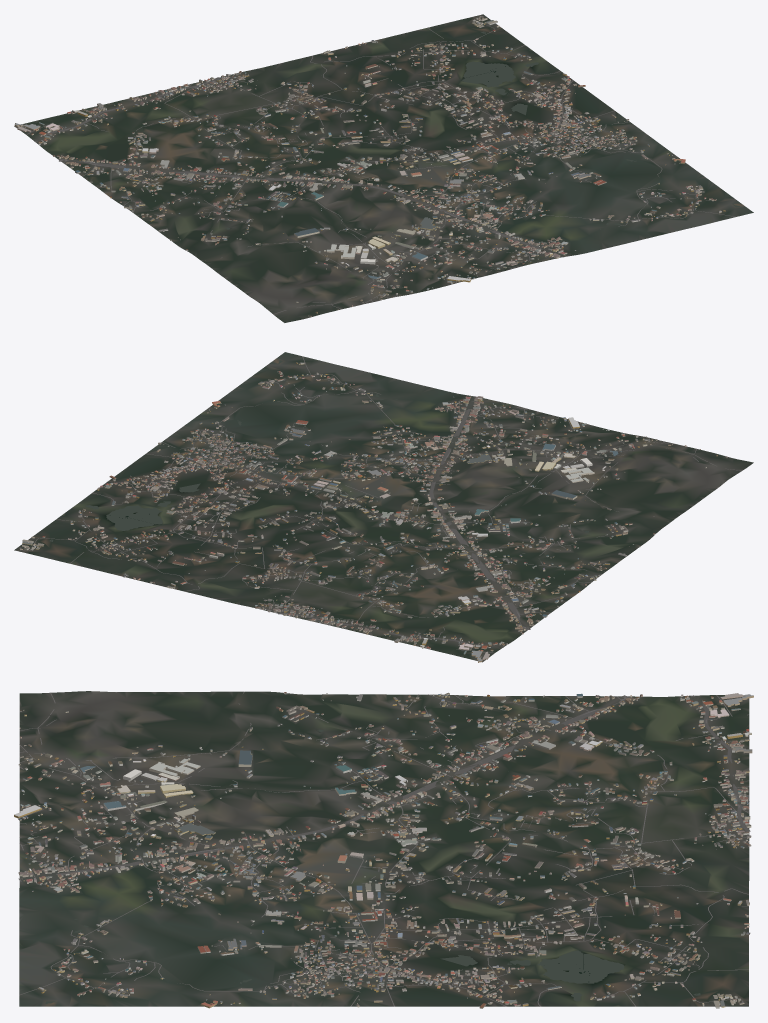
3 views of the same model, one above another, from view 1: azimuth 30°, elevation 25°; view 2: azimuth 150°, elevation 25°; view 3: azimuth 270°, elevation 25° (orthographic). The views are drawn at different scales.
Parts seen in each view (by area): view 1: ground, buildings, roads, water; view 2: ground, buildings, roads, water; view 3: ground, buildings, roads, water.
Part boxes in pixels (box(x1,y1,x2,y2)): ground: box(14, 14, 753, 322); buildings: box(14, 15, 725, 316); roads: box(26, 17, 736, 314); water: box(226, 31, 739, 229); ground: box(14, 352, 753, 662); buildings: box(19, 362, 727, 662); roads: box(20, 356, 742, 654); water: box(49, 360, 588, 541); ground: box(19, 691, 749, 1006); buildings: box(14, 692, 753, 1008); roads: box(18, 691, 750, 1006); water: box(45, 729, 700, 1003).
Size of the model in its own units: 2833 by 55.36 by 2843.
